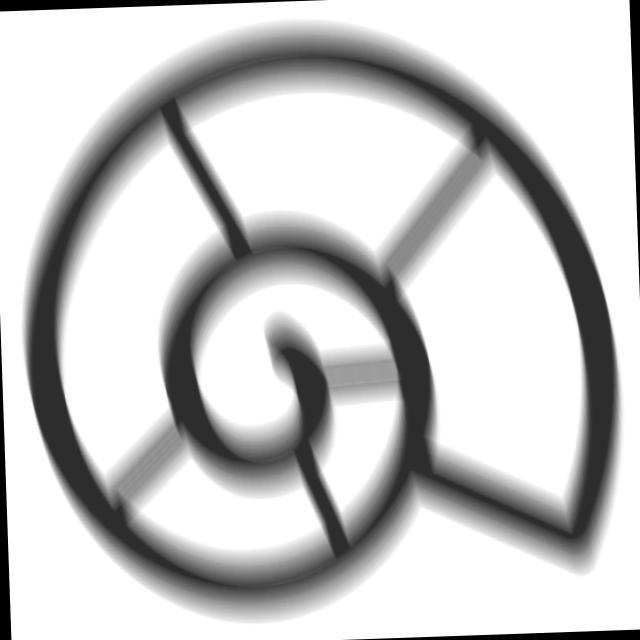fossil: (1, 1, 638, 640)
